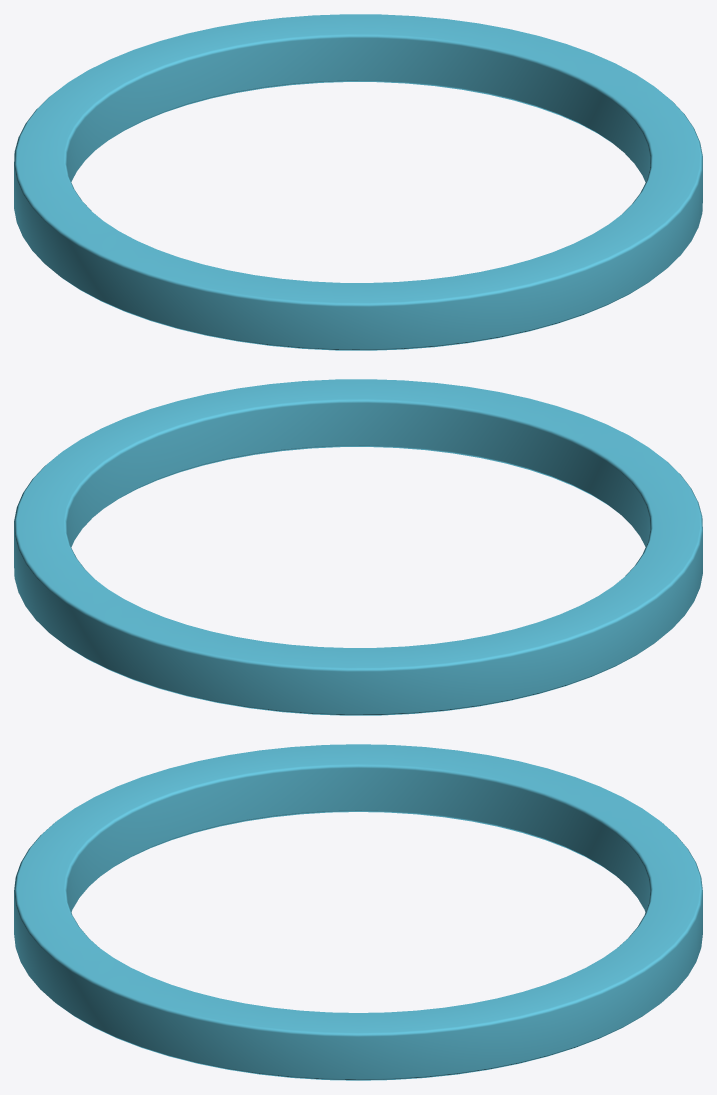
3 renders of one model, top to bottom at view 1: azimuth 30°, elevation 25°; view 2: azimuth 150°, elevation 25°; view 3: azimuth 270°, elevation 25°, orthographic.
Parts seen in each view (by area): view 1: seal_body; view 2: seal_body; view 3: seal_body.
Part boxes in pixels (x1,y1,x2,y2): seal_body: (14, 14, 702, 350); seal_body: (14, 379, 702, 715); seal_body: (14, 744, 702, 1080).
Size of the model in its own units: 0.1238 by 0.00952 by 0.1238.
